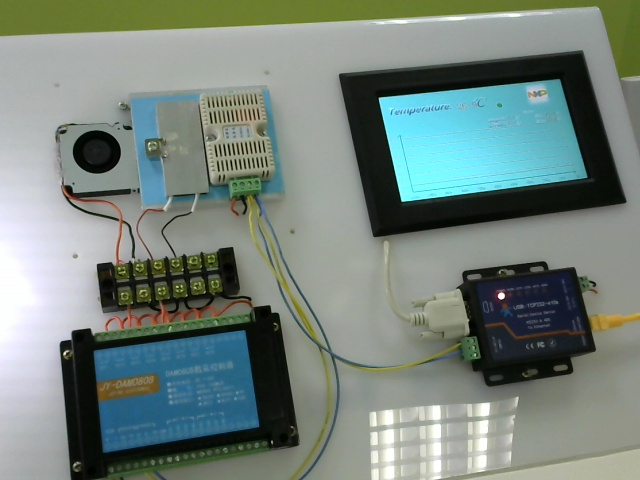fan: (46, 117, 141, 202)
heater: (159, 90, 200, 208)
modbus bridge: (462, 254, 603, 389)
relay: (51, 304, 313, 480)
termperature: (200, 84, 282, 184)
